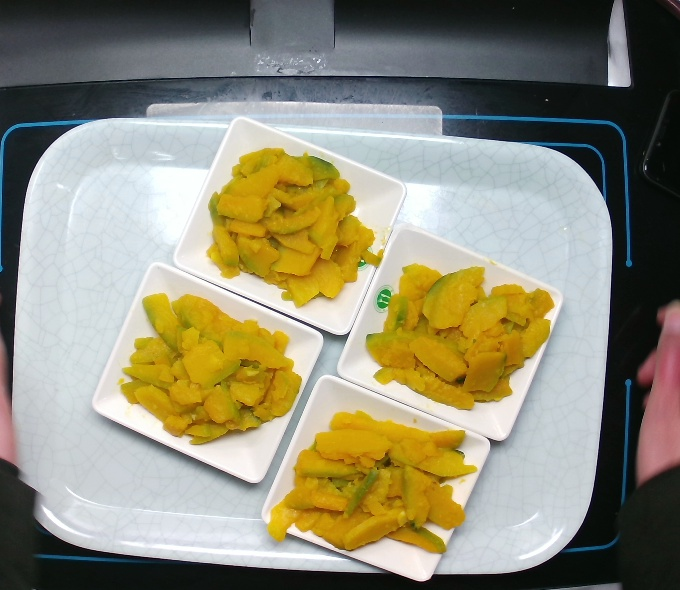wcq-NanGuaPian: (267, 409, 480, 556), (204, 145, 383, 310), (120, 290, 304, 446), (365, 263, 554, 412)
